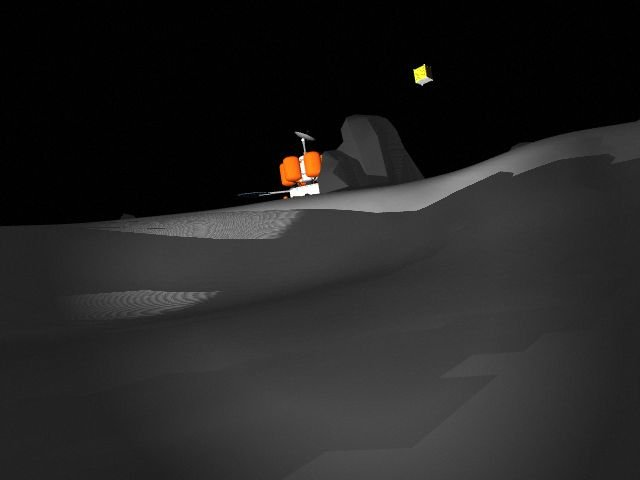cubesat: (406, 57, 443, 93)
